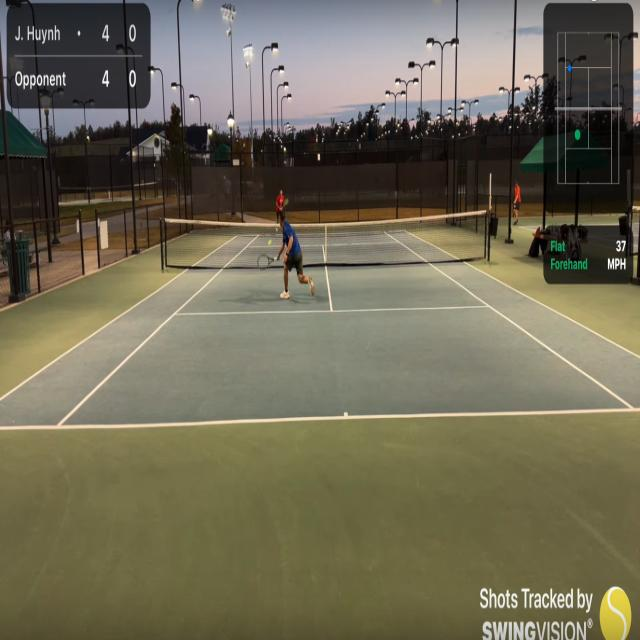ball: (267, 238, 272, 247)
